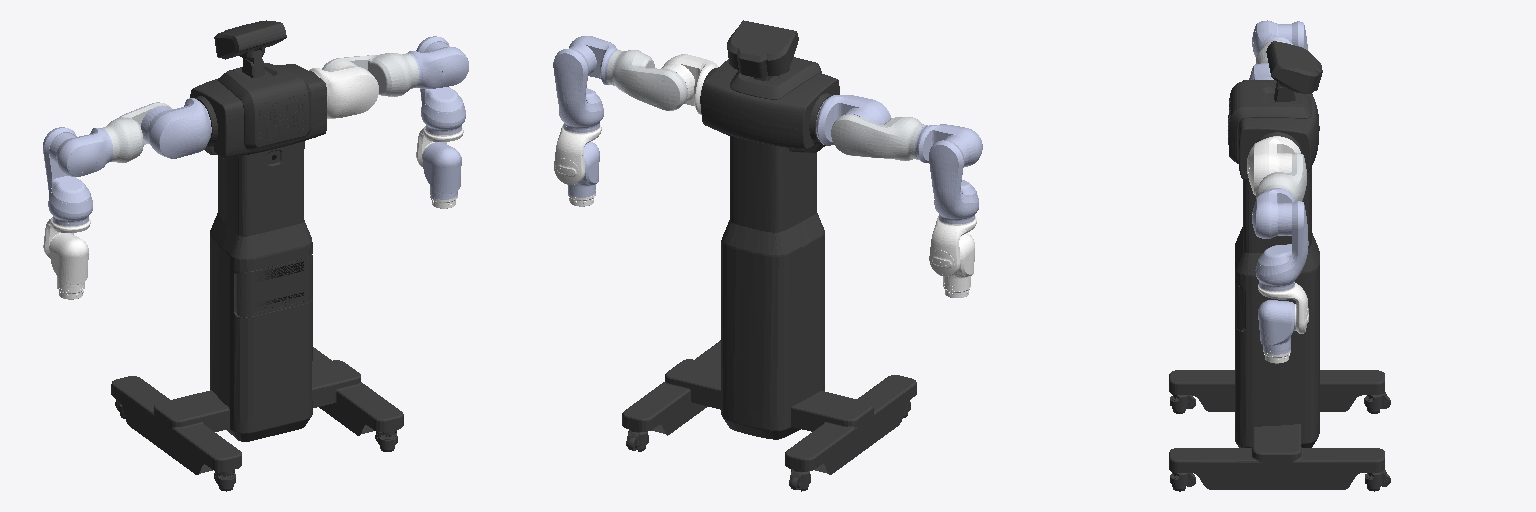
The robot description file, URDF, robot "dscr5_6":
<?xml version="1.0" encoding="utf-8"?>
<!-- This URDF was automatically created by SolidWorks to URDF Exporter! Originally created by [author] ([email redacted]) 
     Commit Version: 1.6.0-1-g15f4949  Build Version: 1.6.7594.29634
     For more information, please see http://wiki.ros.org/sw_urdf_exporter -->
<robot
  name="dscr5_6">
  <link
    name="base_link">
    <inertial>
      <origin
        xyz="-2.33471583537977E-06 -0.00662907239788245 1.33004670421342"
        rpy="0 0 0" />
      <mass
        value="25.8577669048994" />
      <inertia
        ixx="0.267014137924139"
        ixy="-1.36584455425003E-05"
        ixz="-4.2469044271823E-07"
        iyy="0.472244407235779"
        iyz="-5.34065558451017E-05"
        izz="0.549554614712028" />
    </inertial>
    <visual>
      <origin
        xyz="0 0 0"
        rpy="0 0 0" />
      <geometry>
        <mesh
          filename="package://Dsc5/meshes/base_link.STL" />
      </geometry>
      <material
        name="">
        <color
          rgba="0.298039215686275 0.298039215686275 0.298039215686275 1" />
      </material>
    </visual>
    <collision>
      <origin
        xyz="0 0 0"
        rpy="0 0 0" />
      <geometry>
        <mesh
          filename="package://Dsc5/meshes/base_link.STL" />
      </geometry>
    </collision>
  </link>
  <link
    name="rlink1">
    <inertial>
      <origin
        xyz="-3.48537472660837E-07 -0.0233818482234878 -0.0427896937411072"
        rpy="0 0 0" />
      <mass
        value="4.9503936266377" />
      <inertia
        ixx="0.0280328872192691"
        ixy="-1.0942187488335E-08"
        ixz="8.01870940106082E-08"
        iyy="0.0290016533494644"
        iyz="0.00182600668247838"
        izz="0.0175058159650953" />
    </inertial>
    <visual>
      <origin
        xyz="0 0 0"
        rpy="0 0 0" />
      <geometry>
        <mesh
          filename="package://Dsc5/meshes/rlink1.STL" />
      </geometry>
      <material
        name="">
        <color
          rgba="1 1 1 1" />
      </material>
    </visual>
    <collision>
      <origin
        xyz="0 0 0"
        rpy="0 0 0" />
      <geometry>
        <mesh
          filename="package://Dsc5/meshes/rlink1.STL" />
      </geometry>
    </collision>
  </link>
  <joint
    name="rjoint1"
    type="revolute">
    <origin
      xyz="0.385 0 1.33"
      rpy="0 1.5708 0" />
    <parent
      link="base_link" />
    <child
      link="rlink1" />
    <axis
      xyz="0 0 1" />
    <limit
      lower="-3.14"
      upper="3.14"
      effort="60"
      velocity="2.088" />
  </joint>
  <link
    name="rlink2">
    <inertial>
      <origin
        xyz="8.53027319225319E-07 -0.132185395312596 -0.0316164146761528"
        rpy="0 0 0" />
      <mass
        value="3.79795466425453" />
      <inertia
        ixx="0.0345043951838881"
        ixy="-6.83453568770041E-07"
        ixz="3.61629286229262E-08"
        iyy="0.0138915011944337"
        iyz="0.00967376859925764"
        izz="0.0312407355826189" />
    </inertial>
    <visual>
      <origin
        xyz="0 0 0"
        rpy="0 0 0" />
      <geometry>
        <mesh
          filename="package://Dsc5/meshes/rlink2.STL" />
      </geometry>
      <material
        name="">
        <color
          rgba="0.898039215686275 0.913725490196078 0.925490196078431 1" />
      </material>
    </visual>
    <collision>
      <origin
        xyz="0 0 0"
        rpy="0 0 0" />
      <geometry>
        <mesh
          filename="package://Dsc5/meshes/rlink2.STL" />
      </geometry>
    </collision>
  </link>
  <joint
    name="rjoint2"
    type="revolute">
    <origin
      xyz="0 0 0"
      rpy="-1.5708 0 3.1416" />
    <parent
      link="rlink1" />
    <child
      link="rlink2" />
    <axis
      xyz="0 0 1" />
    <limit
      lower="-1.827"
      upper="1.827"
      effort="60"
      velocity="2.088" />
  </joint>
  <link
    name="rlink3">
    <inertial>
      <origin
        xyz="-8.01697919161626E-07 -0.0193078273568117 -0.0351761512008308"
        rpy="0 0 0" />
      <mass
        value="2.90590329386609" />
      <inertia
        ixx="0.012506710918385"
        ixy="-3.18829086332697E-08"
        ixz="1.61628680644383E-07"
        iyy="0.0126795925744411"
        iyz="0.000667419670602496"
        izz="0.00682395851939506" />
    </inertial>
    <visual>
      <origin
        xyz="0 0 0"
        rpy="0 0 0" />
      <geometry>
        <mesh
          filename="package://Dsc5/meshes/rlink3.STL" />
      </geometry>
      <material
        name="">
        <color
          rgba="0.792156862745098 0.819607843137255 0.933333333333333 1" />
      </material>
    </visual>
    <collision>
      <origin
        xyz="0 0 0"
        rpy="0 0 0" />
      <geometry>
        <mesh
          filename="package://Dsc5/meshes/rlink3.STL" />
      </geometry>
    </collision>
  </link>
  <joint
    name="rjoint3"
    type="revolute">
    <origin
      xyz="0 -0.4 0"
      rpy="-1.5708 0 3.1416" />
    <parent
      link="rlink2" />
    <child
      link="rlink3" />
    <axis
      xyz="0 0 1" />
    <limit
      lower="-3.14"
      upper="3.14"
      effort="60"
      velocity="3.14" />
  </joint>
  <link
    name="rlink4">
    <inertial>
      <origin
        xyz="-0.144257090671159 -9.85621058857689E-06 -0.0330829693859012"
        rpy="0 0 0" />
      <mass
        value="3.62743871363849" />
      <inertia
        ixx="0.0129758721943285"
        ixy="-2.58330084453541E-06"
        ixz="0.0089132335031844"
        iyy="0.0321838755377905"
        iyz="2.55052560667335E-08"
        izz="0.0283162014026305" />
    </inertial>
    <visual>
      <origin
        xyz="0 0 0"
        rpy="0 0 0" />
      <geometry>
        <mesh
          filename="package://Dsc5/meshes/rlink4.STL" />
      </geometry>
      <material
        name="">
        <color
          rgba="0.792156862745098 0.819607843137255 0.933333333333333 1" />
      </material>
    </visual>
    <collision>
      <origin
        xyz="0 0 0"
        rpy="0 0 0" />
      <geometry>
        <mesh
          filename="package://Dsc5/meshes/rlink4.STL" />
      </geometry>
    </collision>
  </link>
  <joint
    name="rjoint4"
    type="revolute">
    <origin
      xyz="0 0 0"
      rpy="-1.5708 0 3.1416" />
    <parent
      link="rlink3" />
    <child
      link="rlink4" />
    <axis
      xyz="0 0 -1" />
    <limit
      lower="-2"
      upper="2"
      effort="60"
      velocity="1.57" />
  </joint>
  <link
    name="rlink5">
    <inertial>
      <origin
        xyz="5.73325782216028E-06 0.0539256625097546 -0.0673965611550317"
        rpy="0 0 0" />
      <mass
        value="1.22777453272549" />
      <inertia
        ixx="0.00671987251306287"
        ixy="-1.7302687479737E-07"
        ixz="-4.00366572180475E-07"
        iyy="0.00522041312928112"
        iyz="-0.0023320996856893"
        izz="0.00406763138318156" />
    </inertial>
    <visual>
      <origin
        xyz="0 0 0"
        rpy="0 0 0" />
      <geometry>
        <mesh
          filename="package://Dsc5/meshes/rlink5.STL" />
      </geometry>
      <material
        name="">
        <color
          rgba="1 1 1 1" />
      </material>
    </visual>
    <collision>
      <origin
        xyz="0 0 0"
        rpy="0 0 0" />
      <geometry>
        <mesh
          filename="package://Dsc5/meshes/rlink5.STL" />
      </geometry>
    </collision>
  </link>
  <joint
    name="rjoint5"
    type="revolute">
    <origin
      xyz="-0.4 0 0"
      rpy="-1.5708 0 1.5708" />
    <parent
      link="rlink4" />
    <child
      link="rlink5" />
    <axis
      xyz="0 0 -1" />
    <limit
      lower="-3.14"
      upper="3.14"
      effort="60"
      velocity="3.14" />
  </joint>
  <link
    name="rlink6">
    <inertial>
      <origin
        xyz="-3.6069089082158E-07 -0.0302648113567473 -0.000654424356794522"
        rpy="0 0 0" />
      <mass
        value="2.18349168254272" />
      <inertia
        ixx="0.0071110582460742"
        ixy="-1.28155589668657E-08"
        ixz="2.0793851567459E-08"
        iyy="0.00436647605709646"
        iyz="0.000217056908270871"
        izz="0.00649083623519741" />
    </inertial>
    <visual>
      <origin
        xyz="0 0 0"
        rpy="0 0 0" />
      <geometry>
        <mesh
          filename="package://Dsc5/meshes/rlink6.STL" />
      </geometry>
      <material
        name="">
        <color
          rgba="0.792156862745098 0.819607843137255 0.933333333333333 1" />
      </material>
    </visual>
    <collision>
      <origin
        xyz="0 0 0"
        rpy="0 0 0" />
      <geometry>
        <mesh
          filename="package://Dsc5/meshes/rlink6.STL" />
      </geometry>
    </collision>
  </link>
  <joint
    name="rjoint6"
    type="revolute">
    <origin
      xyz="0 0 0"
      rpy="-1.5708 0 -3.1416" />
    <parent
      link="rlink5" />
    <child
      link="rlink6" />
    <axis
      xyz="0 0 1" />
    <limit
      lower="-1.914"
      upper="1.914"
      effort="60"
      velocity="3.14" />
  </joint>
  <link
    name="rlink7">
    <inertial>
      <origin
        xyz="-1.6115772992098E-05 -0.000141462244165972 -0.031877389713026"
        rpy="0 0 0" />
      <mass
        value="0.289031984022191" />
      <inertia
        ixx="0.000202802134225507"
        ixy="2.0837505013452E-10"
        ixz="1.07324494570627E-07"
        iyy="0.000203587280513312"
        iyz="1.58994797887414E-07"
        izz="0.000316585846451796" />
    </inertial>
    <visual>
      <origin
        xyz="0 0 -0.12"
        rpy="0 0 0" />
      <geometry>
        <mesh
          filename="package://Dsc5/meshes/rlink7.STL" />
      </geometry>
      <material
        name="">
        <color
          rgba="1 1 1 1" />
      </material>
    </visual>
    <collision>
      <origin
        xyz="0 0 0"
        rpy="0 0 0" />
      <geometry>
        <mesh
          filename="package://Dsc5/meshes/rlink7.STL" />
      </geometry>
    </collision>
  </link>
  <joint
    name="rjoint7"
    type="revolute">
    <origin
      xyz="0 -0.3 0"
      rpy="1.5708 0 0" />
    <parent
      link="rlink6" />
    <child
      link="rlink7" />
    <axis
      xyz="0 0 -1" />
    <limit
      lower="-3.14"
      upper="3.14"
      effort="60"
      velocity="3.14" />
  </joint>
  <link
    name="llink1">
    <inertial>
      <origin
        xyz="-3.48534555216773E-07 -0.0233818482203476 -0.0427896937411069"
        rpy="0 0 0" />
      <mass
        value="4.95039362663772" />
      <inertia
        ixx="0.0280328872192692"
        ixy="-1.09421874361309E-08"
        ixz="8.0187093968398E-08"
        iyy="0.0290016533494645"
        iyz="0.00182600668247842"
        izz="0.0175058159650954" />
    </inertial>
    <visual>
      <origin
        xyz="0 0 0"
        rpy="0 0 0" />
      <geometry>
        <mesh
          filename="package://Dsc5/meshes/llink1.STL" />
      </geometry>
      <material
        name="">
        <color
          rgba="0.792156862745098 0.819607843137255 0.933333333333333 1" />
      </material>
    </visual>
    <collision>
      <origin
        xyz="0 0 0"
        rpy="0 0 0" />
      <geometry>
        <mesh
          filename="package://Dsc5/meshes/llink1.STL" />
      </geometry>
    </collision>
  </link>
  <joint
    name="ljoint1"
    type="revolute">
    <origin
      xyz="-0.385 0 1.33"
      rpy="0 -1.5708 0" />
    <parent
      link="base_link" />
    <child
      link="llink1" />
    <axis
      xyz="0 0 -1" />
    <limit
      lower="-3.14"
      upper="3.14"
      effort="60"
      velocity="2.088" />
  </joint>
  <link
    name="llink2">
    <inertial>
      <origin
        xyz="8.57088727768129E-07 -0.13218539479818 -0.0316164152507732"
        rpy="0 0 0" />
      <mass
        value="3.79795439943558" />
      <inertia
        ixx="0.0345043950633951"
        ixy="-6.831545078089E-07"
        ixz="3.59263239475119E-08"
        iyy="0.0138915001045365"
        iyz="0.00967376854022875"
        izz="0.0312407342738061" />
    </inertial>
    <visual>
      <origin
        xyz="0 0 0"
        rpy="0 0 0" />
      <geometry>
        <mesh
          filename="package://Dsc5/meshes/llink2.STL" />
      </geometry>
      <material
        name="">
        <color
          rgba="0.898039215686275 0.913725490196078 0.925490196078431 1" />
      </material>
    </visual>
    <collision>
      <origin
        xyz="0 0 0"
        rpy="0 0 0" />
      <geometry>
        <mesh
          filename="package://Dsc5/meshes/llink2.STL" />
      </geometry>
    </collision>
  </link>
  <joint
    name="ljoint2"
    type="revolute">
    <origin
      xyz="0 0 0"
      rpy="-1.57 0 3.14" />
    <parent
      link="llink1" />
    <child
      link="llink2" />
    <axis
      xyz="0 0 1" />
    <limit
      lower="-1.827"
      upper="1.827"
      effort="60"
      velocity="2.088" />
  </joint>
  <link
    name="llink3">
    <inertial>
      <origin
        xyz="-8.01697918939581E-07 -0.0193078273536719 -0.035176151200831"
        rpy="0 0 0" />
      <mass
        value="2.90590329386612" />
      <inertia
        ixx="0.0125067109183852"
        ixy="-3.18829086345302E-08"
        ixz="1.61628680721092E-07"
        iyy="0.0126795925744412"
        iyz="0.000667419670602472"
        izz="0.00682395851939513" />
    </inertial>
    <visual>
      <origin
        xyz="0 0 0"
        rpy="0 0 0" />
      <geometry>
        <mesh
          filename="package://Dsc5/meshes/llink3.STL" />
      </geometry>
      <material
        name="">
        <color
          rgba="0.792156862745098 0.819607843137255 0.933333333333333 1" />
      </material>
    </visual>
    <collision>
      <origin
        xyz="0 0 0"
        rpy="0 0 0" />
      <geometry>
        <mesh
          filename="package://Dsc5/meshes/llink3.STL" />
      </geometry>
    </collision>
  </link>
  <joint
    name="ljoint3"
    type="revolute">
    <origin
      xyz="0 -0.4 0"
      rpy="-1.5708 0 3.1416" />
    <parent
      link="llink2" />
    <child
      link="llink3" />
    <axis
      xyz="0 0 -1" />
    <limit
      lower="-3.14"
      upper="3.14"
      effort="60"
      velocity="3.14" />
  </joint>
  <link
    name="llink4">
    <inertial>
      <origin
        xyz="-0.144257090671159 -9.85621058846586E-06 -0.0330829693890409"
        rpy="0 0 0" />
      <mass
        value="3.6274387136385" />
      <inertia
        ixx="0.0129758721958824"
        ixy="-2.58329914905676E-06"
        ixz="0.0089132335030002"
        iyy="0.0321838755383158"
        iyz="2.55050844185509E-08"
        izz="0.028316201404925" />
    </inertial>
    <visual>
      <origin
        xyz="0 0 0"
        rpy="0 0 3.1416" />
      <geometry>
        <mesh
          filename="package://Dsc5/meshes/llink4.STL" />
      </geometry>
      <material
        name="">
        <color
          rgba="0.792156862745098 0.819607843137255 0.933333333333333 1" />
      </material>
    </visual>
    <collision>
      <origin
        xyz="0 0 0"
        rpy="0 0 0" />
      <geometry>
        <mesh
          filename="package://Dsc5/meshes/llink4.STL" />
      </geometry>
    </collision>
  </link>
  <joint
    name="ljoint4"
    type="revolute">
    <origin
      xyz="0 0 0"
      rpy="-1.5708 0 3.1416" />
    <parent
      link="llink3" />
    <child
      link="llink4" />
    <axis
      xyz="0 0 -1" />
    <limit
      lower="-2"
      upper="2"
      effort="60"
      velocity="3.14" />
  </joint>
  <link
    name="llink5">
    <inertial>
      <origin
        xyz="5.73532288883349E-06 0.0539158105053979 -0.0673965526908485"
        rpy="0 0 0" />
      <mass
        value="1.22777421461757" />
      <inertia
        ixx="0.00671987162846365"
        ixy="-1.73133868954839E-07"
        ixz="-4.00335180443063E-07"
        iyy="0.00522041225072359"
        iyz="-0.00233209954708952"
        izz="0.00406763025471862" />
    </inertial>
    <visual>
      <origin
        xyz="0 0 0"
        rpy="0 0 0" />
      <geometry>
        <mesh
          filename="package://Dsc5/meshes/llink5.STL" />
      </geometry>
      <material
        name="">
        <color
          rgba="1 1 1 1" />
      </material>
    </visual>
    <collision>
      <origin
        xyz="0 0 0"
        rpy="0 0 0" />
      <geometry>
        <mesh
          filename="package://Dsc5/meshes/llink5.STL" />
      </geometry>
    </collision>
  </link>
  <joint
    name="ljoint5"
    type="revolute">
    <origin
      xyz="0.4 0 0"
      rpy="-1.5708 0 -1.5708" />
    <parent
      link="llink4" />
    <child
      link="llink5" />
    <axis
      xyz="0 0 1" />
    <limit
      lower="-3.14"
      upper="3.14"
      effort="60"
      velocity="3.14" />
  </joint>
  <link
    name="llink6">
    <inertial>
      <origin
        xyz="-3.60690891154647E-07 -0.0302648113567476 -0.000644568673573308"
        rpy="0 0 0" />
      <mass
        value="2.1834916825427" />
      <inertia
        ixx="0.00711105824607415"
        ixy="-1.28155589872999E-08"
        ixz="2.07938515571978E-08"
        iyy="0.00436647605709643"
        iyz="0.00021705690827092"
        izz="0.00649083623519734" />
    </inertial>
    <visual>
      <origin
        xyz="0 0 0"
        rpy="0 0 0" />
      <geometry>
        <mesh
          filename="package://Dsc5/meshes/llink6.STL" />
      </geometry>
      <material
        name="">
        <color
          rgba="1 1 1 1" />
      </material>
    </visual>
    <collision>
      <origin
        xyz="0 0 0"
        rpy="0 0 0" />
      <geometry>
        <mesh
          filename="package://Dsc5/meshes/llink6.STL" />
      </geometry>
    </collision>
  </link>
  <joint
    name="ljoint6"
    type="revolute">
    <origin
      xyz="0 0 0"
      rpy="-1.5708 0 3.1416" />
    <parent
      link="llink5" />
    <child
      link="llink6" />
    <axis
      xyz="0 0 1" />
    <limit
      lower="-1.914"
      upper="1.914"
      effort="60"
      velocity="3.14" />
  </joint>
  <link
    name="llink7">
    <inertial>
      <origin
        xyz="1.611577299232E-05 0.000131606557804023 -0.031877389713026"
        rpy="0 0 0" />
      <mass
        value="0.289031984022191" />
      <inertia
        ixx="0.000202802134225507"
        ixy="2.08375050252559E-10"
        ixz="-1.07324494570795E-07"
        iyy="0.000203587280513312"
        iyz="-1.58994797887464E-07"
        izz="0.000316585846451796" />
    </inertial>
    <visual>
      <origin
        xyz="0 0 -0.12"
        rpy="0 0 0" />
      <geometry>
        <mesh
          filename="package://Dsc5/meshes/llink7.STL" />
      </geometry>
      <material
        name="">
        <color
          rgba="1 1 1 1" />
      </material>
    </visual>
    <collision>
      <origin
        xyz="0 0 0"
        rpy="0 0 0" />
      <geometry>
        <mesh
          filename="package://Dsc5/meshes/llink7.STL" />
      </geometry>
    </collision>
  </link>
  <joint
    name="ljoint7"
    type="revolute">
    <origin
      xyz="0 -0.3 0"
      rpy="1.5708 0 0" />
    <parent
      link="llink6" />
    <child
      link="llink7" />
    <axis
      xyz="0 0 -1" />
    <limit
      lower="-3.14"
      upper="3.14"
      effort="60"
      velocity="3.14" />
  </joint>
</robot>

--- What the picture shows (computed from the rendered views, not written in the file) ---
The picture shows the robot from 3 angles, left to right: view 1: azimuth 30°, elevation 25°; view 2: azimuth 150°, elevation 25°; view 3: azimuth 270°, elevation 25°; orthographic projection.
Robot: dscr5_6 — 15 links, 14 joints (14 revolute); root link base_link; default pose: all joints at 0.
Visible links, largest first — view 1: base_link, llink1, rlink1, llink4, llink3, rlink2, rlink4, rlink3, llink6, rlink6, llink2, rlink5 (+1 smaller); view 2: base_link, llink2, rlink2, rlink4, llink4, llink1, llink3, llink5, rlink5, rlink1, rlink3, rlink6 (+1 smaller); view 3: base_link, rlink4, rlink3, rlink1, rlink6, rlink2, rlink5, llink3.
Link boxes in pixels (left/top/right/bottom): base_link: left=111, top=20, right=403, bottom=491; llink1: left=141, top=98, right=211, bottom=158; rlink1: left=309, top=61, right=378, bottom=118; llink4: left=43, top=127, right=92, bottom=225; llink3: left=49, top=128, right=112, bottom=176; rlink2: left=322, top=53, right=418, bottom=96; rlink4: left=416, top=36, right=465, bottom=134; rlink3: left=408, top=42, right=468, bottom=88; llink6: left=50, top=233, right=88, bottom=290; rlink6: left=423, top=142, right=461, bottom=199; llink2: left=103, top=102, right=171, bottom=162; rlink5: left=416, top=126, right=463, bottom=166; base_link: left=622, top=20, right=916, bottom=491; llink2: left=831, top=114, right=925, bottom=160; rlink2: left=607, top=50, right=687, bottom=110; rlink4: left=553, top=49, right=603, bottom=132; llink4: left=929, top=140, right=978, bottom=223; llink1: left=816, top=95, right=891, bottom=145; llink3: left=915, top=124, right=982, bottom=166; llink5: left=929, top=216, right=976, bottom=276; rlink5: left=554, top=124, right=601, bottom=184; rlink1: left=661, top=54, right=717, bottom=114; rlink3: left=569, top=36, right=617, bottom=84; rlink6: left=568, top=142, right=599, bottom=197; base_link: left=1169, top=41, right=1390, bottom=491; rlink4: left=1255, top=200, right=1308, bottom=290; rlink3: left=1252, top=188, right=1294, bottom=238; rlink1: left=1247, top=136, right=1300, bottom=194; rlink6: left=1258, top=300, right=1294, bottom=354; rlink2: left=1255, top=153, right=1306, bottom=200; rlink5: left=1258, top=283, right=1308, bottom=333; llink3: left=1252, top=20, right=1292, bottom=56.
Size in the robot's own frame: 1.73 by 0.8215 by 1.62 metres.
15 mesh visuals loaded from 15 distinct referenced files (15 binary STL).